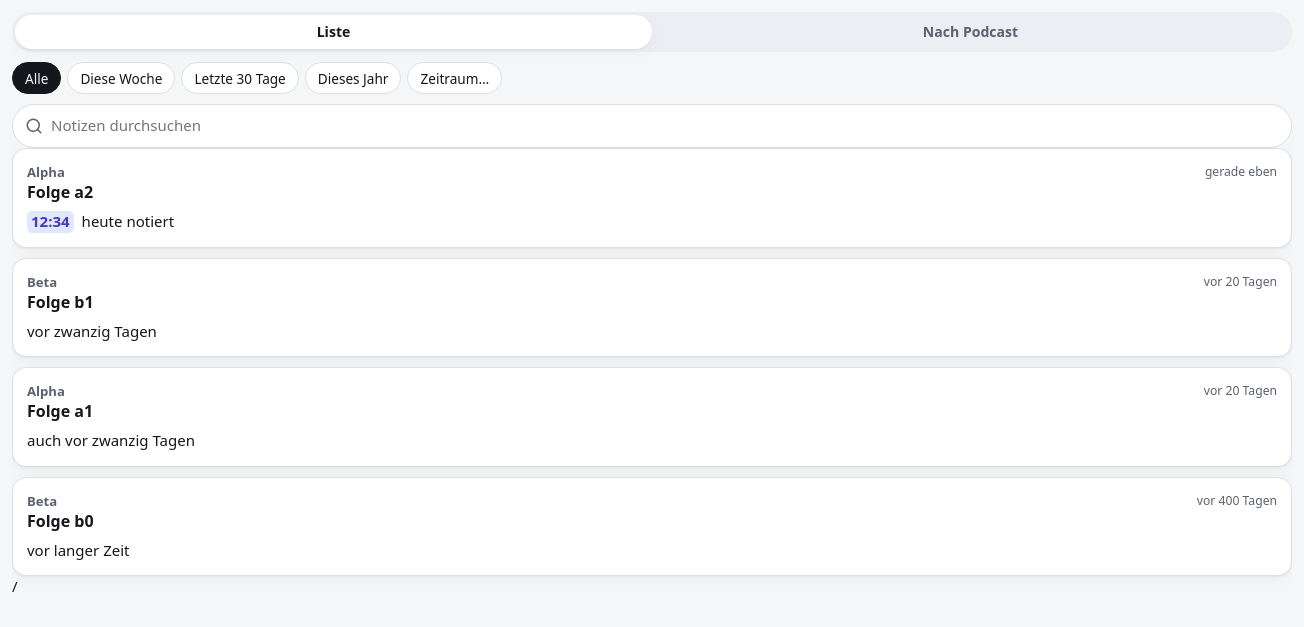
Test: NotesTab › lists all notes, most recently written first, or groups them by podcast in episode order
expect the text "heute notiert" is shown: met, box [82,211,174,231]
What coordinates should you click on to do the following:
click the radio button labelled "Nach Podcast"
I would click on:
 (970, 32)
Its box is [652,15,1289,49].
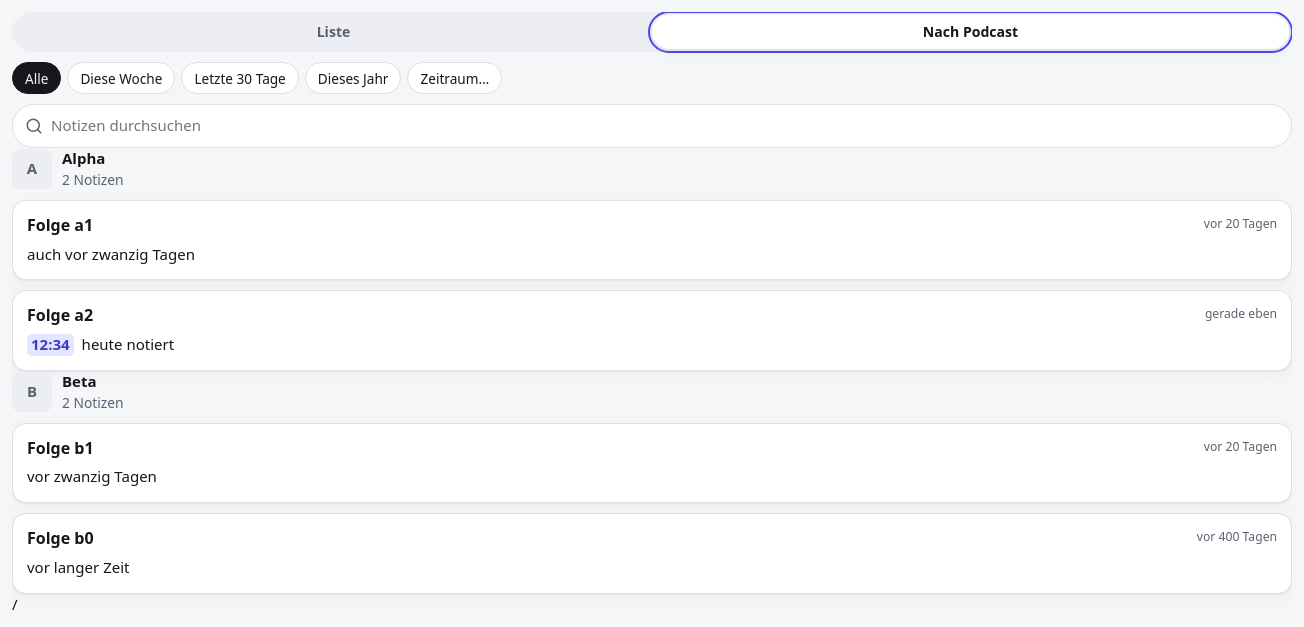
expect the text "Beta" is shown: met, box [62,371,96,391]
expect the text "2 Notizen" below "Alpha" is shown: met, box [62,170,123,189]
